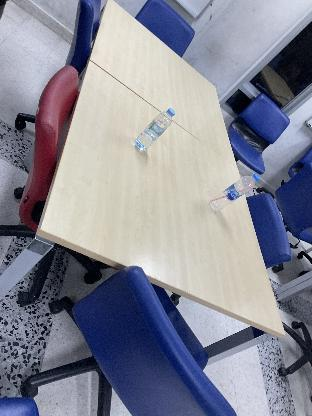Plastic Bottle: (132, 105, 176, 155), (209, 172, 259, 214)
